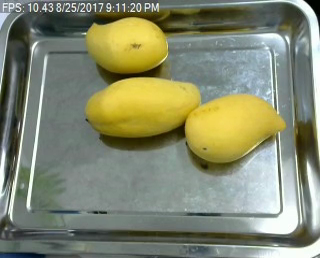Mango: (184, 91, 288, 164), (81, 76, 204, 135), (82, 15, 168, 74)
